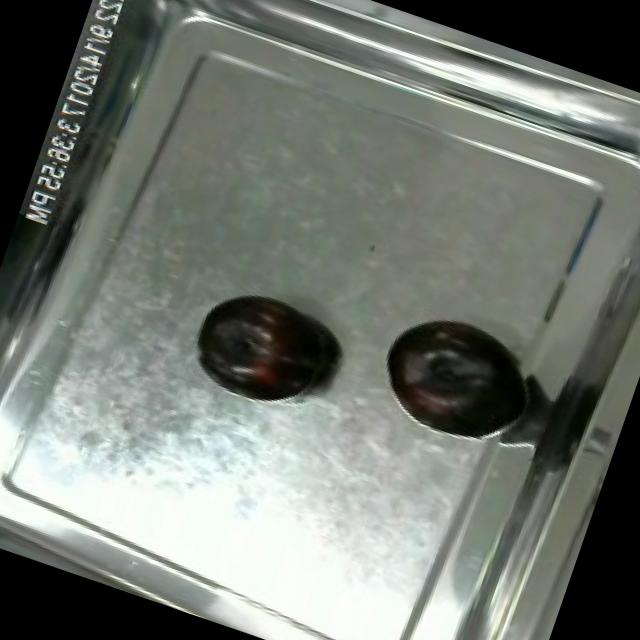Fruit: (364, 296, 550, 456), (178, 270, 352, 420)
